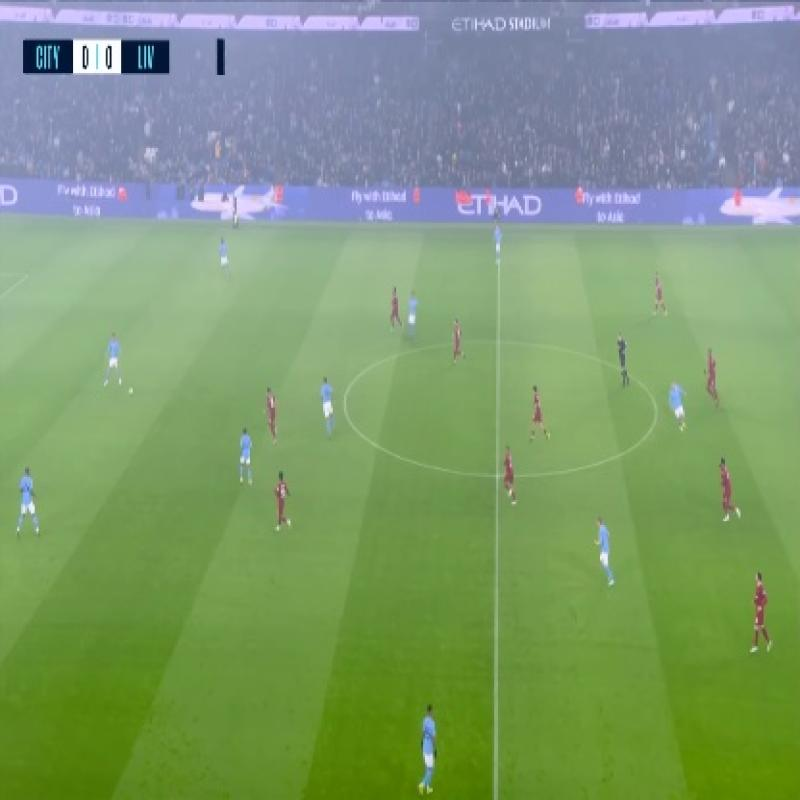14: (488, 331, 506, 354)
15: (484, 458, 506, 489)
9: (17, 268, 31, 284)
c: (640, 394, 670, 429), (332, 387, 360, 418)
